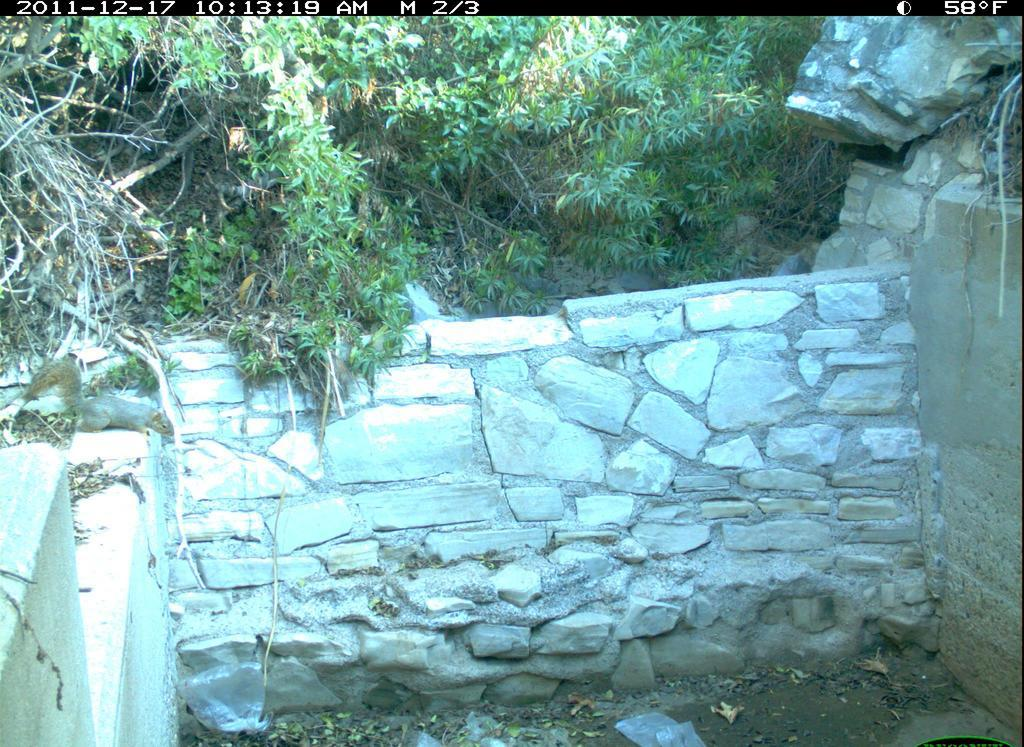squirrel: (25, 358, 178, 455)
